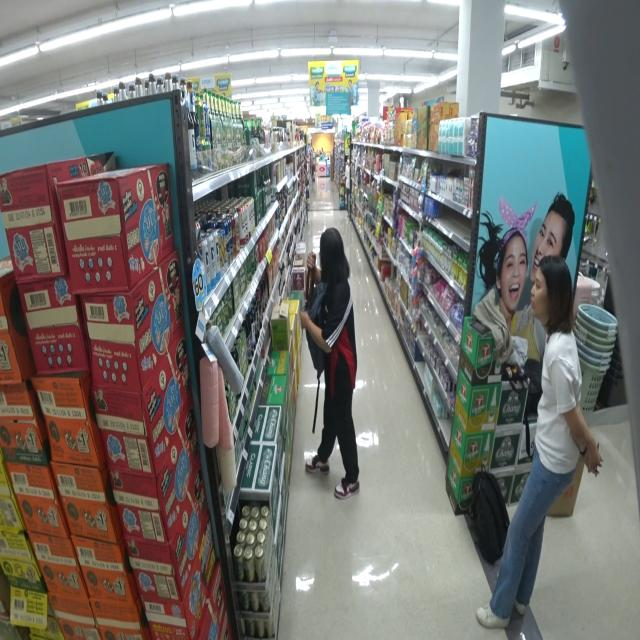shoplifting: (301, 228, 364, 505)
